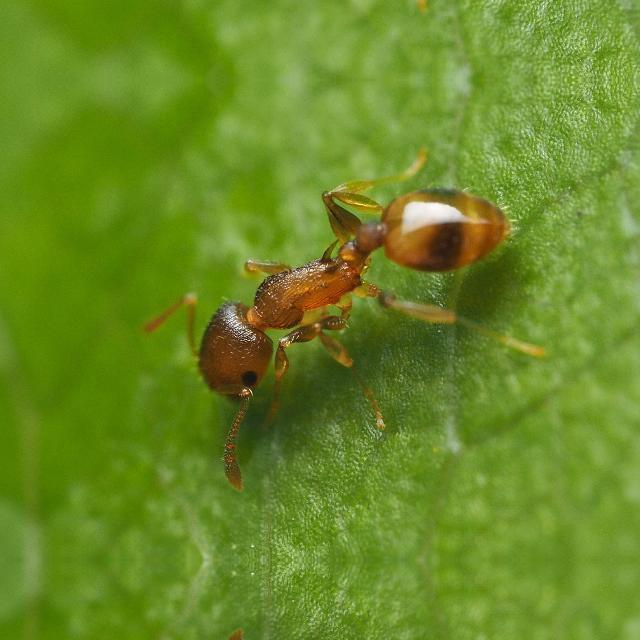Temnothorax: (139, 142, 543, 442)
